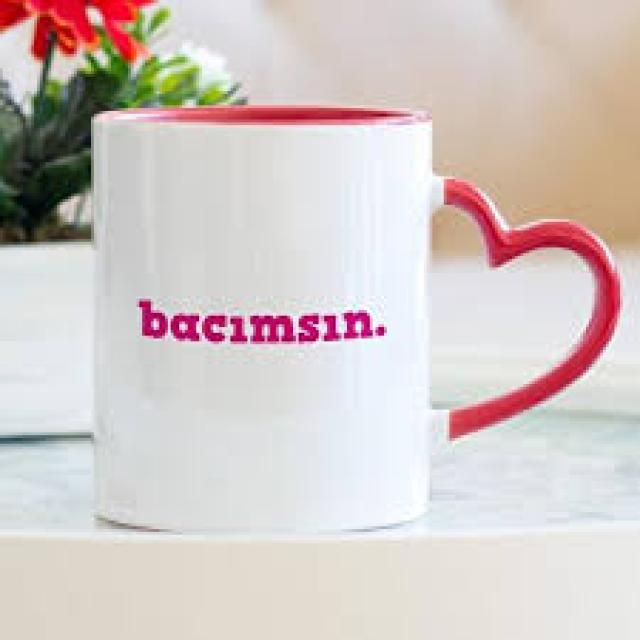taza: (92, 104, 624, 534)
